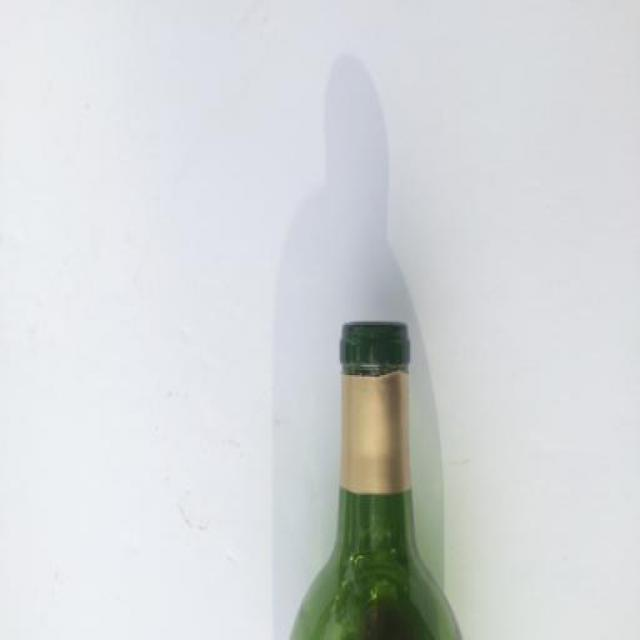Waste: (292, 322, 461, 639)
